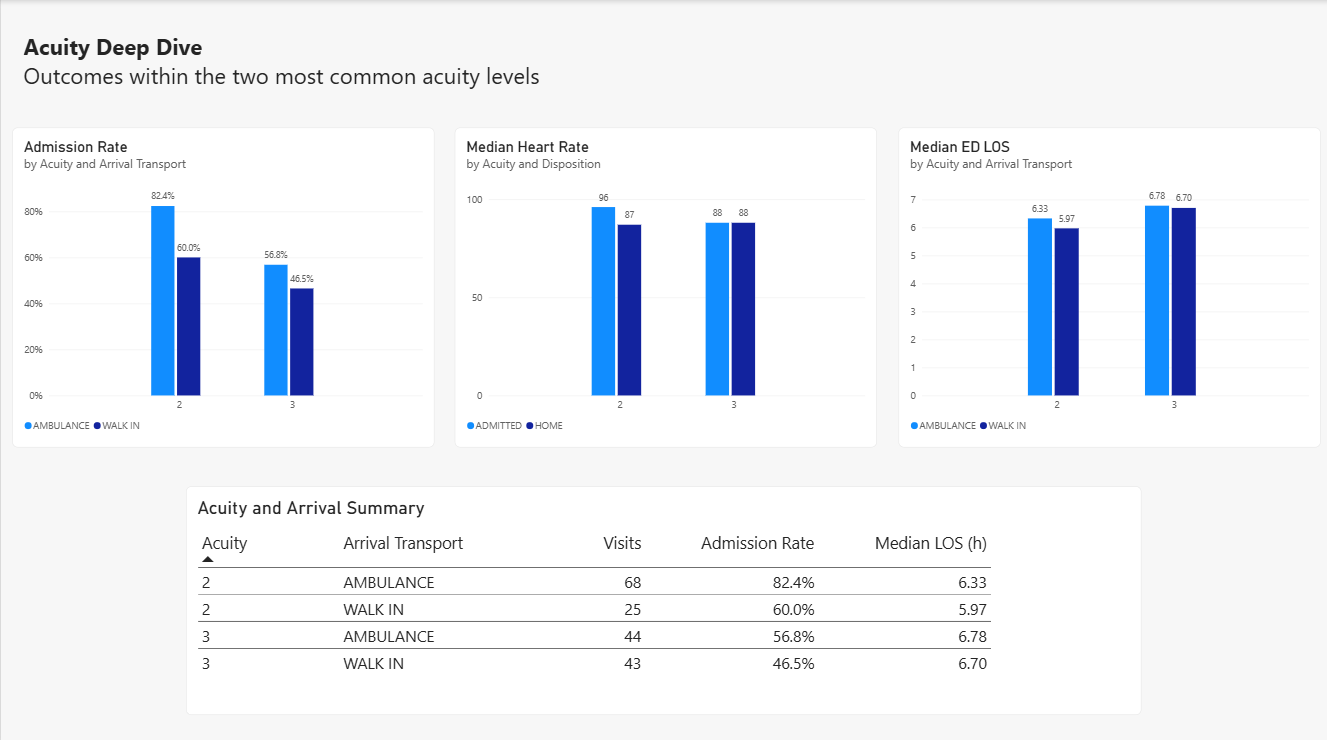

This screenshot's page, from the dashboard's own definition file:
{"tool":"powerbi","page":{"name":"Acuity Deep Dive","canvas":[1920,1080],"ordinal":1},"visuals":[{"type":"clusteredColumnChart","title":"Admission Rate","fields":{"Category":["public final_ed_analysis.Acuity Label"],"Series":["public final_ed_analysis.arrival_transport"],"Y":["public final_ed_analysis.Admission Rate"]},"box":[16.5,185.2,611.3,463.1],"z":0},{"type":"clusteredColumnChart","title":"Median ED LOS","fields":{"Category":["public final_ed_analysis.Acuity Label"],"Series":["public final_ed_analysis.arrival_transport"],"Y":["public final_ed_analysis.Median ED LOS (Hours)"]},"box":[1298.8,185.2,611.3,463.1],"z":1000},{"type":"tableEx","title":"Acuity and Arrival Summary","fields":{"Values":["public final_ed_analysis.Acuity Label","public final_ed_analysis.arrival_transport","public final_ed_analysis.Total ED Visits","public final_ed_analysis.Admission Rate","public final_ed_analysis.Median ED LOS (Hours)"]},"box":[267.6,703.9,1383.2,331.4],"z":2000},{"type":"clusteredColumnChart","title":"Median Heart Rate","fields":{"Category":["public final_ed_analysis.Acuity Label"],"Series":["public final_ed_analysis.disposition"],"Y":["public final_ed_analysis.Median Heart Rate"]},"box":[656.6,185.2,611.3,463.1],"z":3000},{"type":"textbox","box":[32.9,45.3,1107.4,94.7],"z":4000}]}

Visuals, with their boxes in screenshot pixels (x1, y1, x2, y2), scaled from the page's 1920x1080 canvas onto the 1327x740 screenshot:
"Admission Rate" clusteredColumnChart: l=11, t=127, r=434, b=444
"Median ED LOS" clusteredColumnChart: l=898, t=127, r=1320, b=444
"Acuity and Arrival Summary" tableEx: l=185, t=482, r=1141, b=709
"Median Heart Rate" clusteredColumnChart: l=454, t=127, r=876, b=444
textbox: l=23, t=31, r=788, b=96
